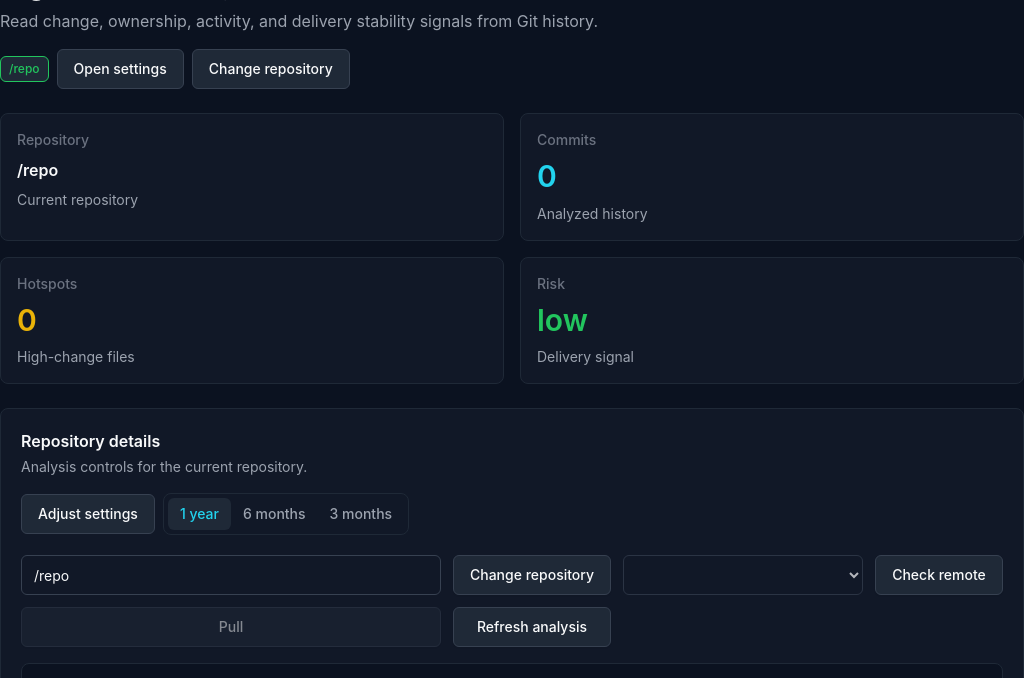
Test case: OverviewPage branch controls › marks the remote freshness check as stale after five minutes
Click the button "Check remote": point(939, 575) [875, 555, 1003, 595]
Wait 300000 ms
(page scrolled)
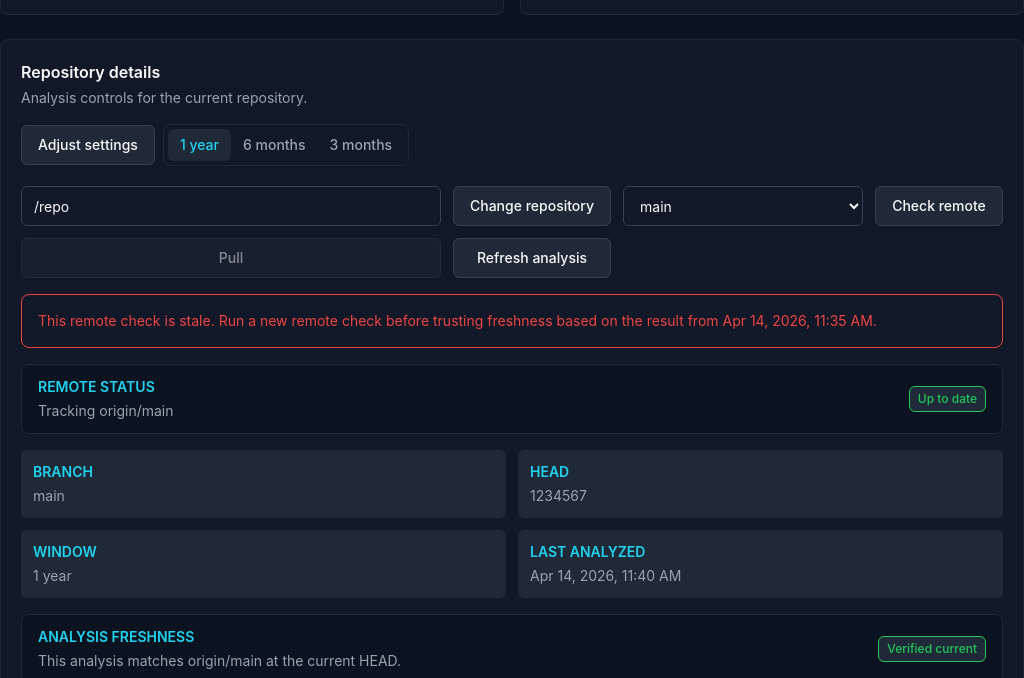
Result: the text "This remote check is stale. Run a new remote check before trusting freshness" is shown at [38, 312, 877, 329]
